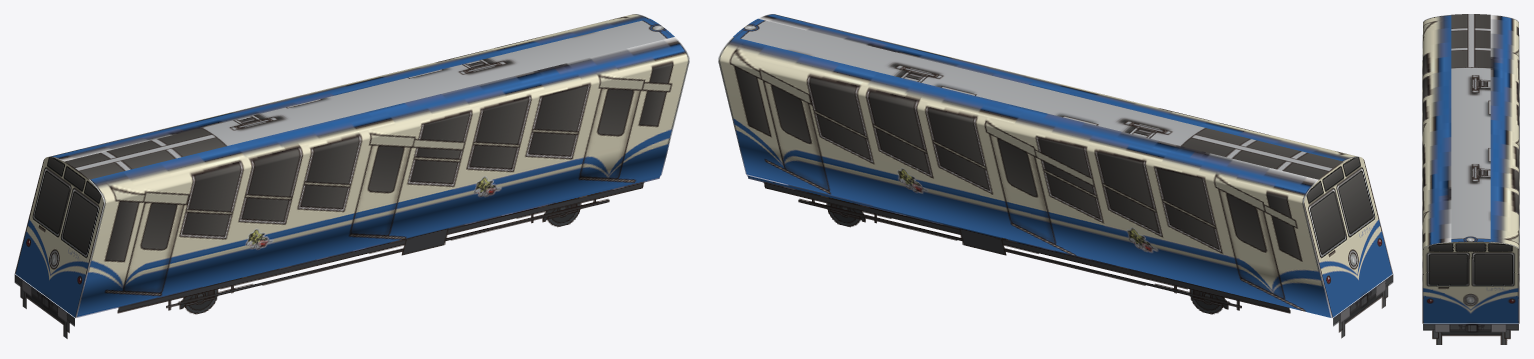
Rendered from car1.glb.
3 renders of one model, left to right at view 1: azimuth 30°, elevation 25°; view 2: azimuth 150°, elevation 25°; view 3: azimuth 270°, elevation 25°, orthographic. The views are drawn at different scales.
Parts seen in each view (by area): view 1: nisisigicabele-car1; view 2: nisisigicabele-car1; view 3: nisisigicabele-car1.
Boxes of the visible parts, x1=… form: nisisigicabele-car1: x1=14, y1=14, x2=689, y2=338; nisisigicabele-car1: x1=718, y1=14, x2=1393, y2=338; nisisigicabele-car1: x1=1422, y1=14, x2=1519, y2=344.
Size of the model in its own units: 14.35 by 3.22 by 2.46.
Materials: 8 (7 with a texture image).
